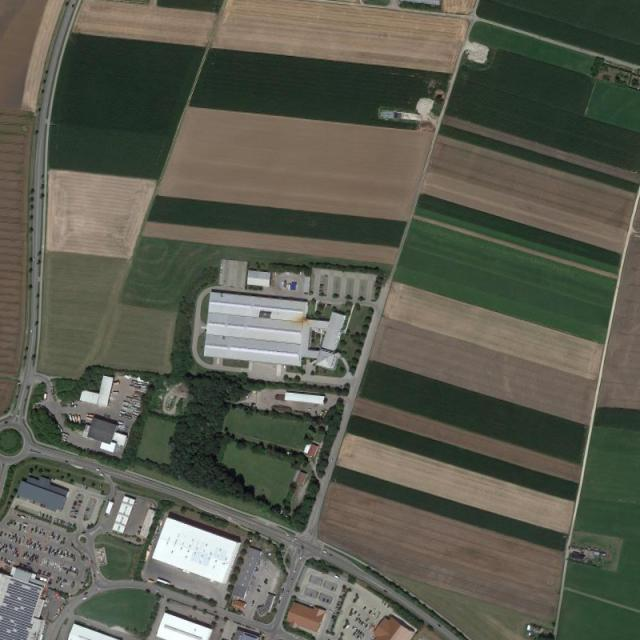vehicle: (157, 578, 170, 586), (72, 415, 76, 423), (69, 414, 73, 422), (75, 414, 78, 422)
